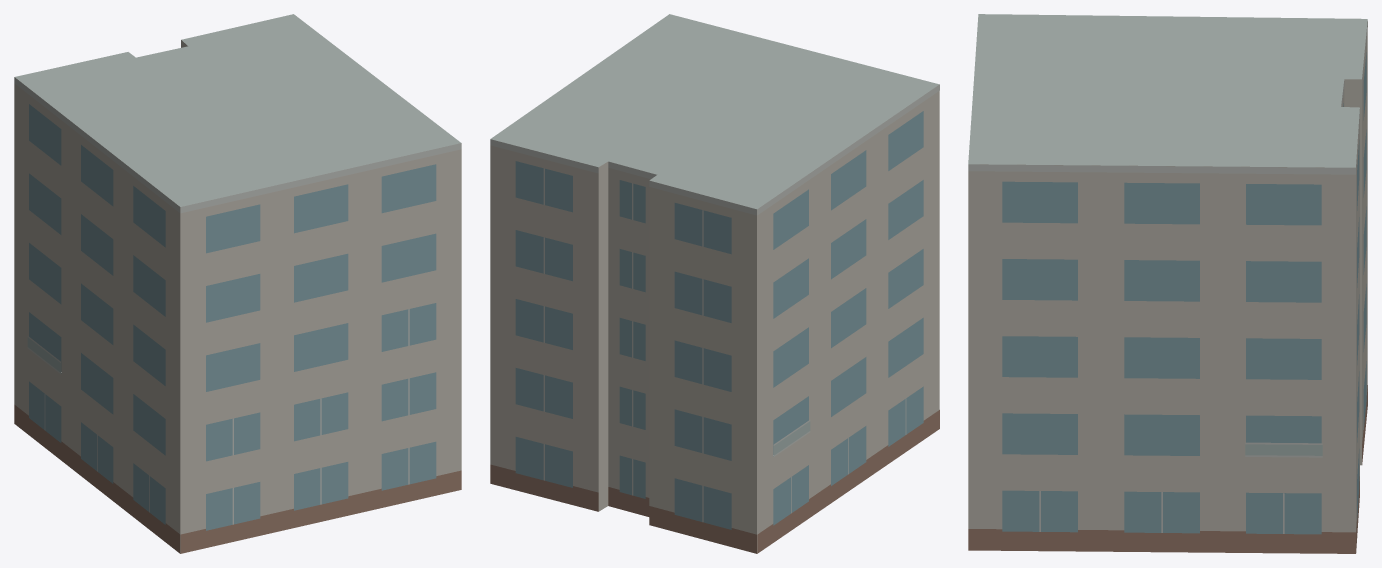
Rendered from survey-upis-32837921.glb.
3 renders of one model, left to right at view 1: azimuth 30°, elevation 25°; view 2: azimuth 150°, elevation 25°; view 3: azimuth 270°, elevation 25°, orthographic. The views are drawn at different scales.
Visible parts, largest first — view 1: survey-upis-32837921.tmp; view 2: survey-upis-32837921.tmp; view 3: survey-upis-32837921.tmp.
Boxes of the visible parts, x1=… form: survey-upis-32837921.tmp: x1=14, y1=14, x2=461, y2=553; survey-upis-32837921.tmp: x1=490, y1=14, x2=939, y2=553; survey-upis-32837921.tmp: x1=968, y1=14, x2=1367, y2=553.
Size of the model in its own units: 11.55 by 13.5 by 12.67.
